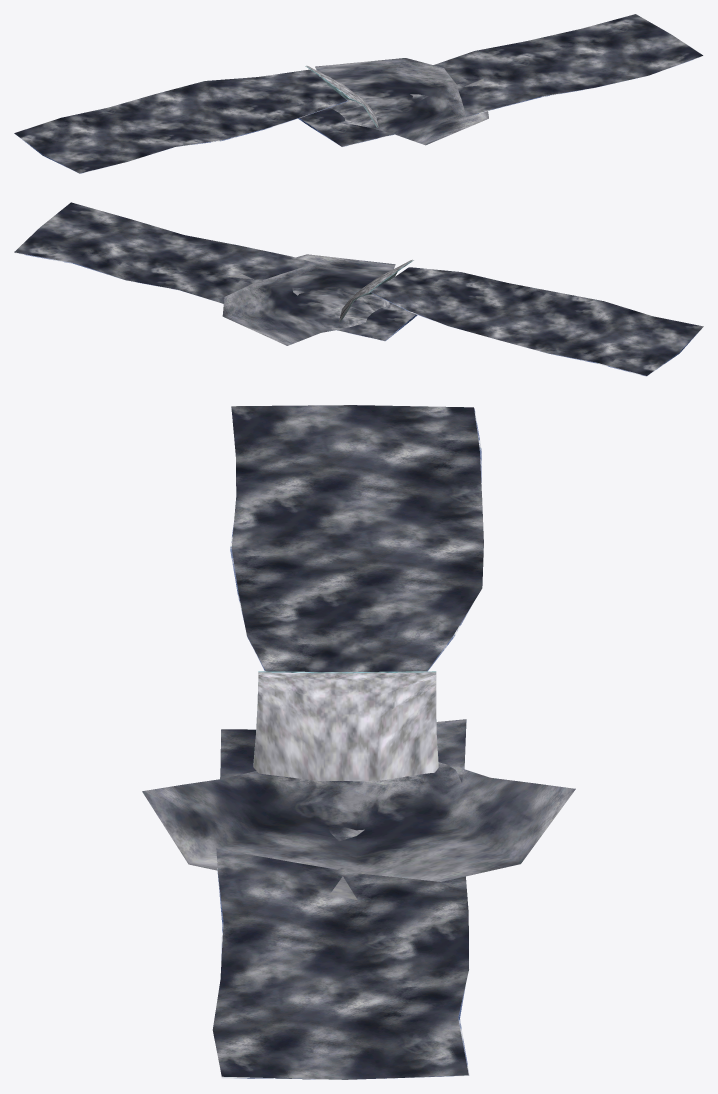
Rendered from LONE_MOUNTAIN_WATERFALLS_MAIN_WATER_CENTER04.fbx.
3 renders of one model, top to bottom at view 1: azimuth 30°, elevation 25°; view 2: azimuth 150°, elevation 25°; view 3: azimuth 270°, elevation 25°, orthographic. The views are drawn at different scales.
Visible parts, largest first — view 1: LONE_MOUNTAIN_WATERFALLS_MAIN_WATER_CENTER04; view 2: LONE_MOUNTAIN_WATERFALLS_MAIN_WATER_CENTER04; view 3: LONE_MOUNTAIN_WATERFALLS_MAIN_WATER_CENTER04.
Part boxes in pixels (bbox=[...]): LONE_MOUNTAIN_WATERFALLS_MAIN_WATER_CENTER04: bbox=[14, 14, 703, 173]; LONE_MOUNTAIN_WATERFALLS_MAIN_WATER_CENTER04: bbox=[14, 202, 703, 376]; LONE_MOUNTAIN_WATERFALLS_MAIN_WATER_CENTER04: bbox=[142, 405, 575, 1079].
Bounding box in the file's own units: 318442 × 28735 × 95246.
5 materials, 5 textured.
